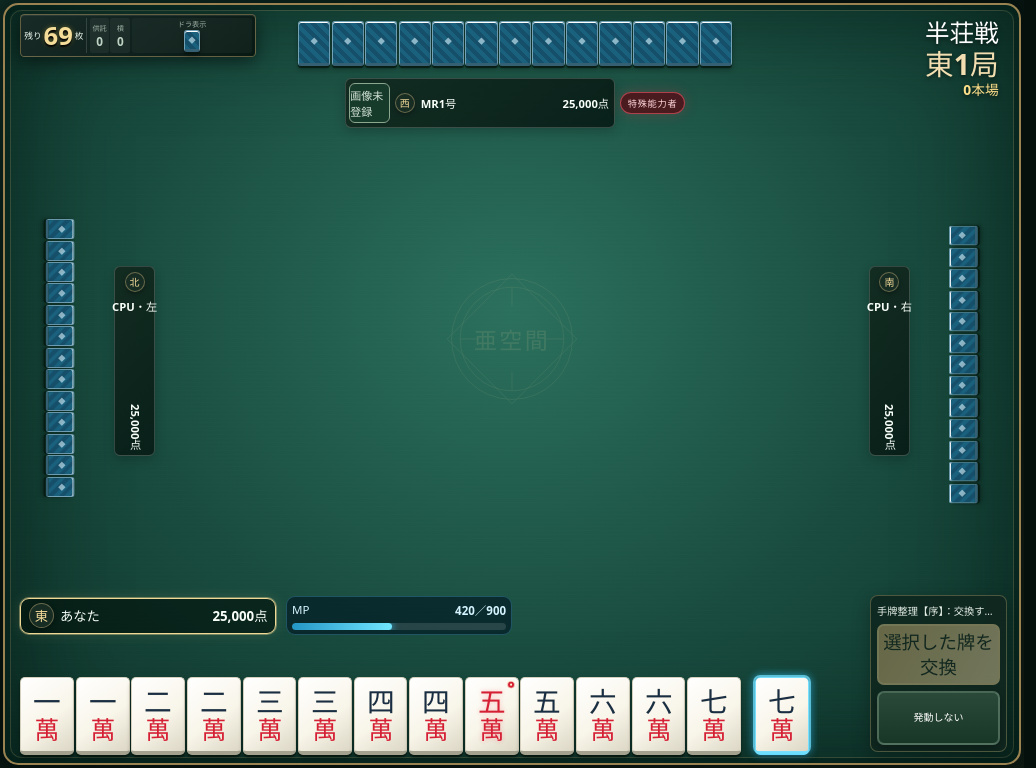
Scenario: プレイヤースキル4-17の画面操作 › 選択した牌を交換して局を開始する
Step 1. Click the 1st button "一 萬" → (47, 716), box [20, 677, 74, 756]
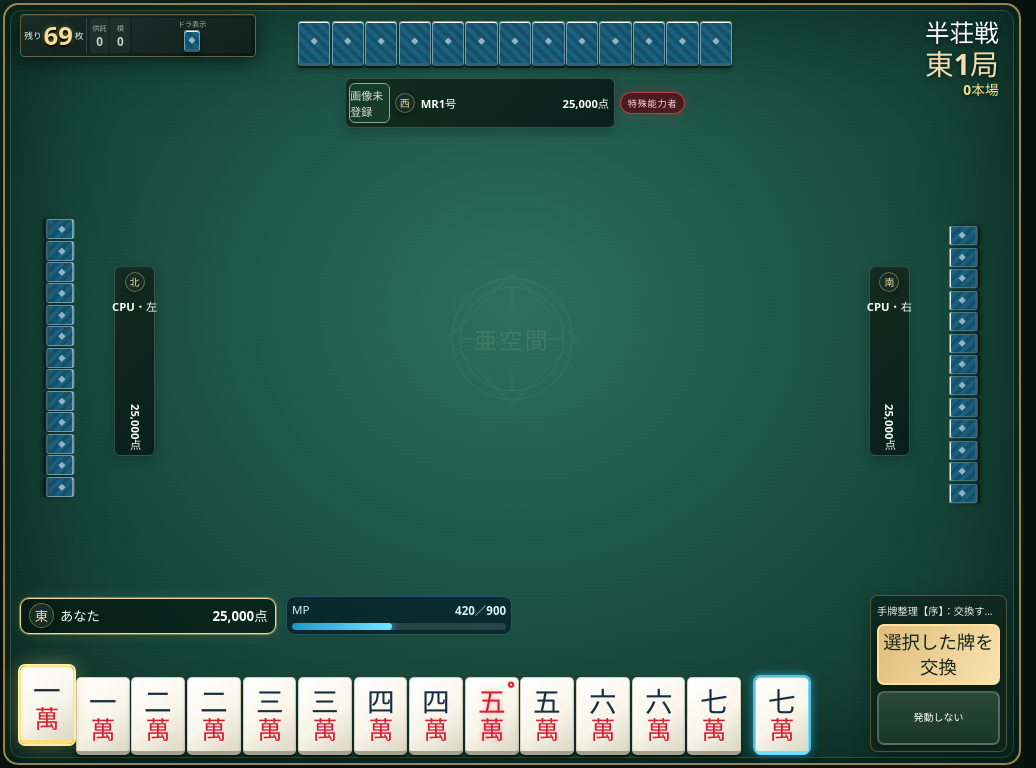
Step 2. Click the button "選択した牌を交換" → (938, 655), box [877, 624, 1000, 685]
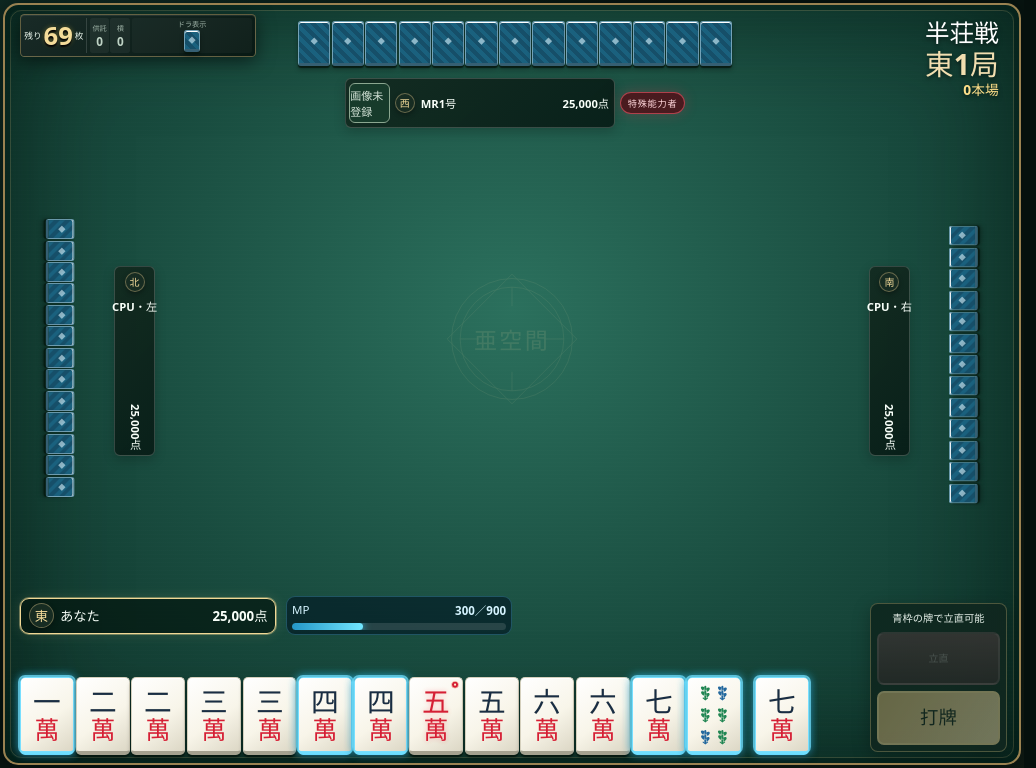
Expected: the button "選択した牌を交換" is gone
